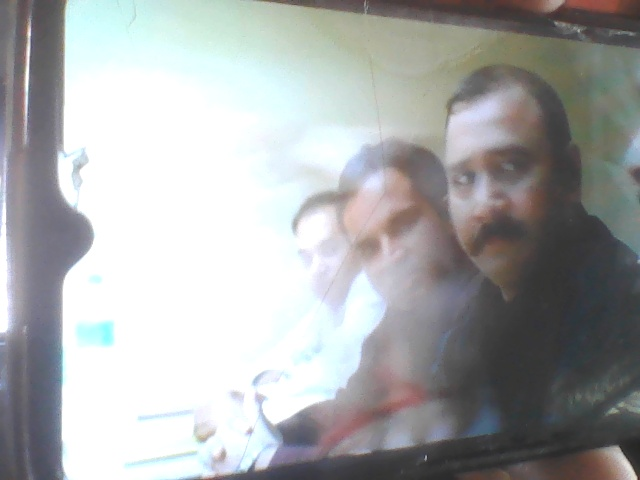fake: (427, 55, 593, 291)
